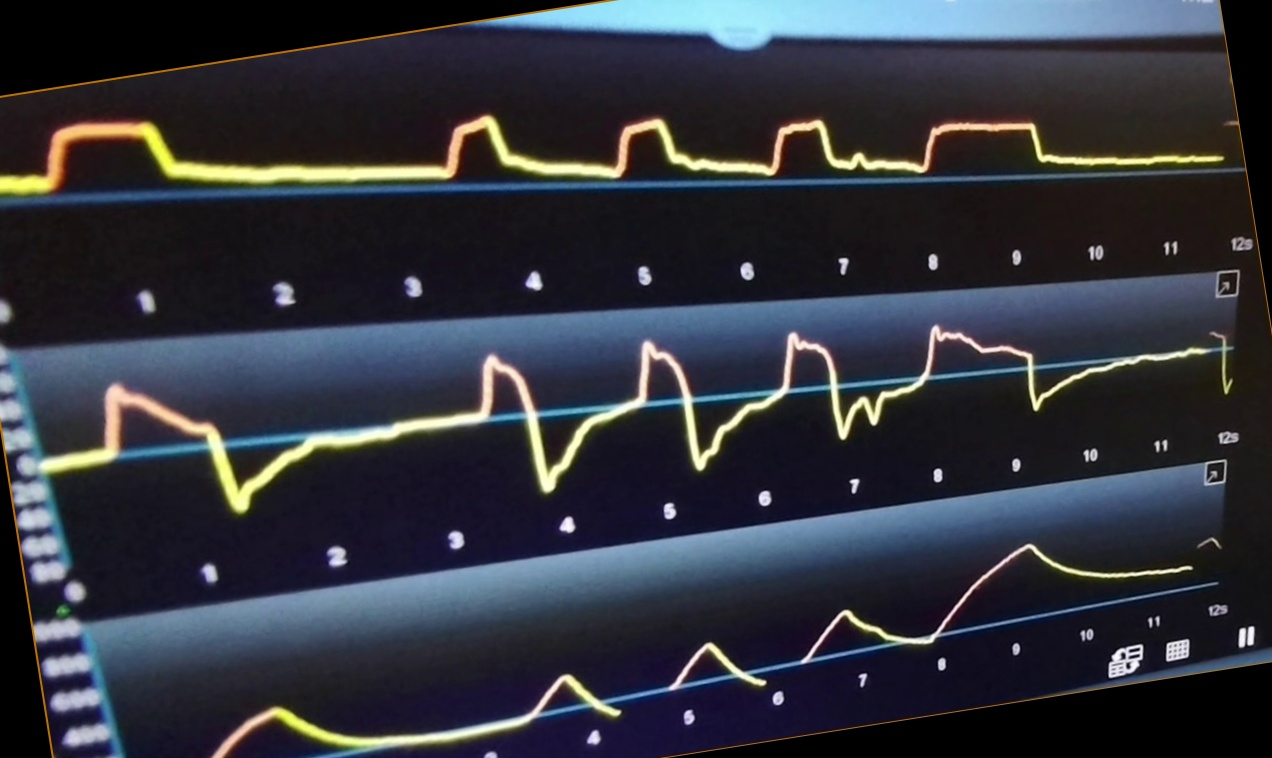Premature_cycling Flow: (50, 311, 1208, 515)
Premature_cycling Volume: (204, 538, 1194, 758)
